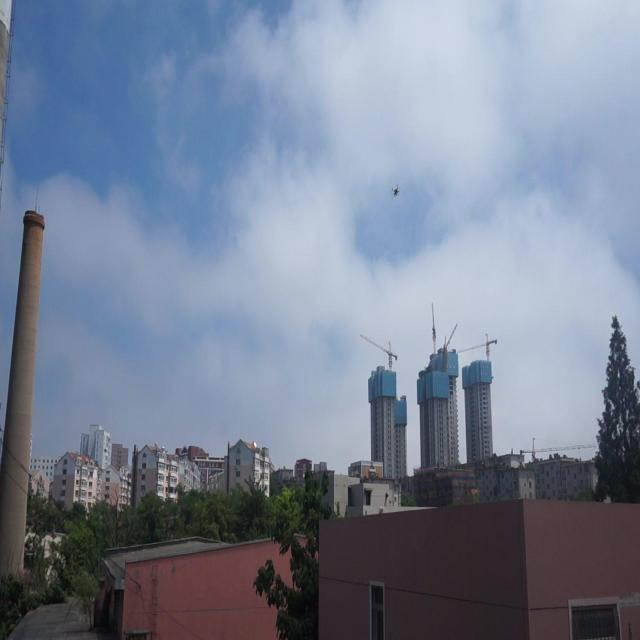drone: (388, 180, 403, 204)
